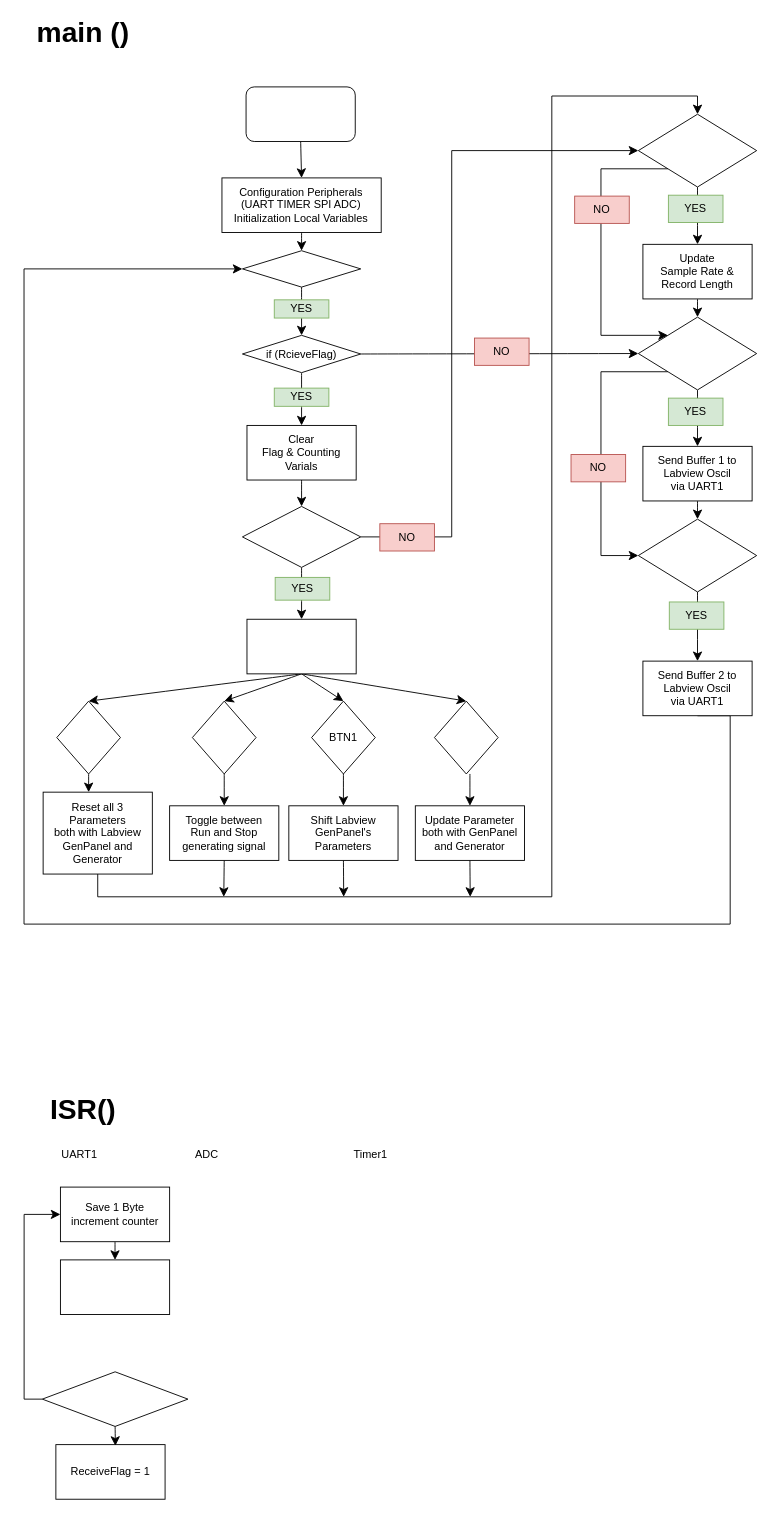
This 774x1515 diagram has some shape labels left out. The shapes that lost their labels are listed below. From the top down, each one's centre as x and y in pixels, then its label:
the point at 300,114: Start
the point at 697,150: if (type 2) Labview Oscil
the point at 301,268: while (1 )
the point at 697,353: if (Buffer1 is ready )
the point at 301,536: if (type 1) Labview Gen
the point at 697,555: if (Buffer2 is ready )
the point at 301,646: switch (BTNX)
the point at 88,737: BTN3
the point at 223,737: BTN2
the point at 466,737: BTN0
the point at 115,1286: decide the length of package
the point at 114,1398: if (counter == length)
